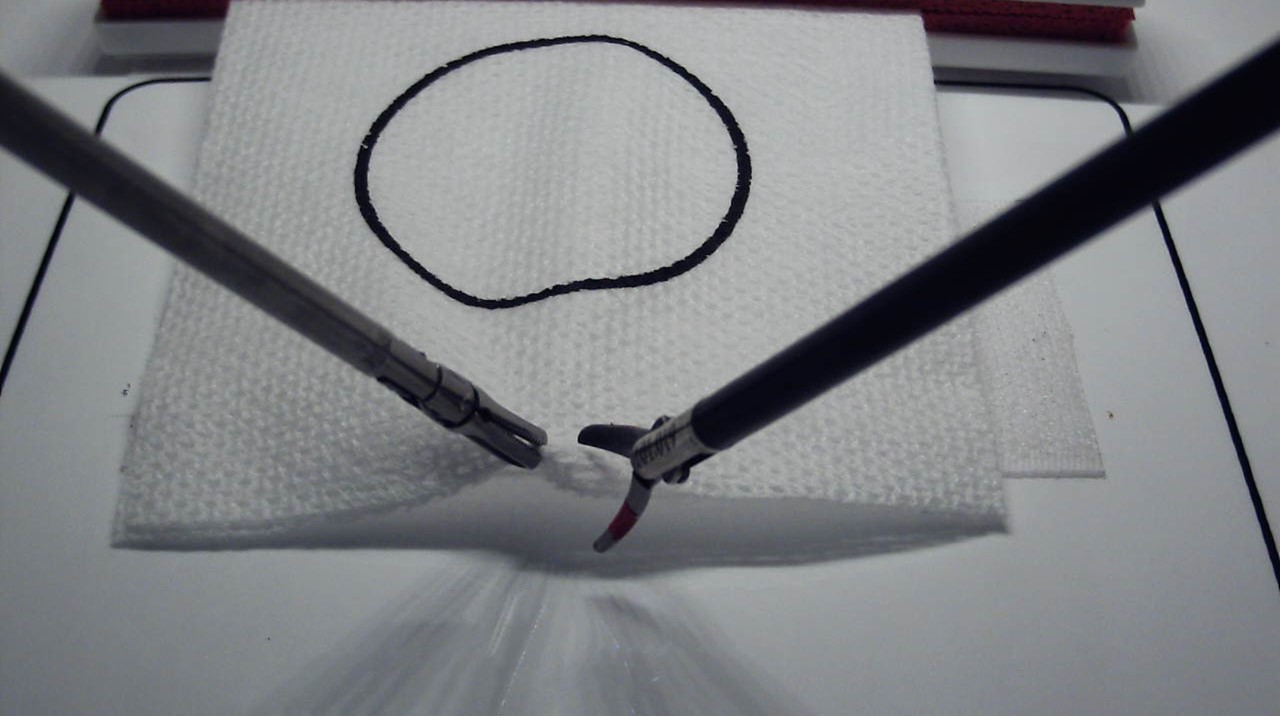Circle: (355, 35, 754, 311)
Grasper: (455, 378, 549, 471)
Scissor: (574, 421, 660, 555)
